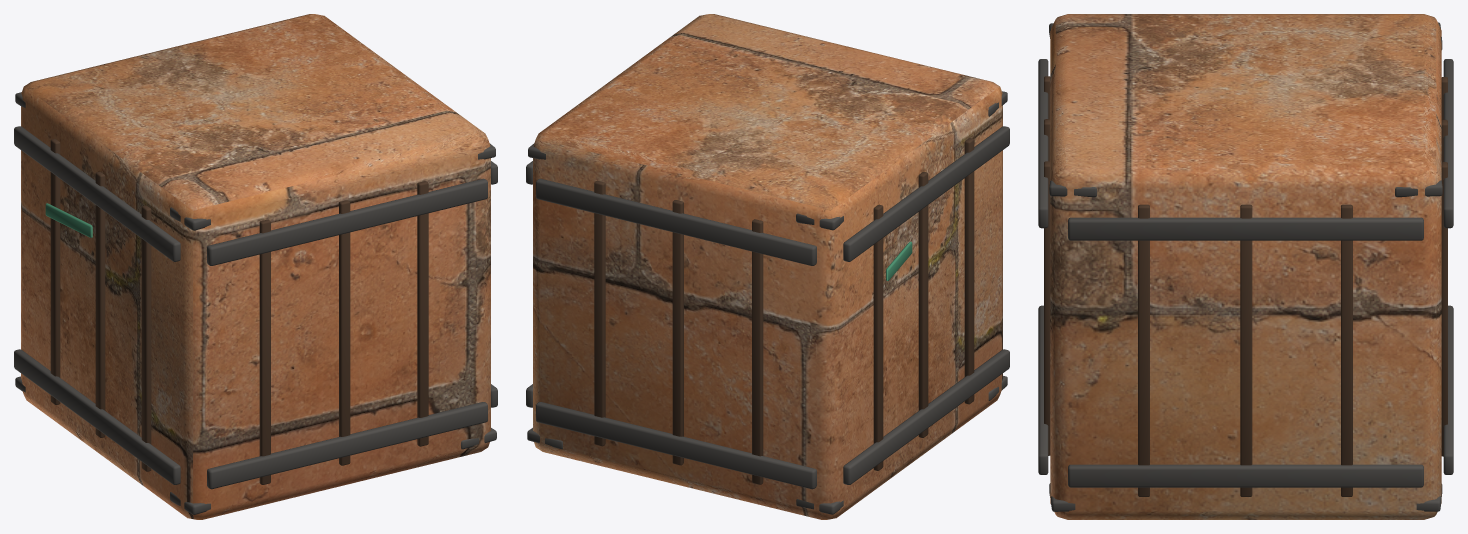
The model's file is w1_block_c.glb.
3 renders of one model, left to right at view 1: azimuth 30°, elevation 25°; view 2: azimuth 150°, elevation 25°; view 3: azimuth 270°, elevation 25°, orthographic. The views are drawn at different scales.
Visible parts, largest first — view 1: w1_block_c; view 2: w1_block_c; view 3: w1_block_c.
Boxes of the visible parts, <box> form: w1_block_c: <box>14,14,497,519</box>; w1_block_c: <box>526,14,1009,519</box>; w1_block_c: <box>1038,14,1453,519</box>.
Size of the model in its own units: 1.91 by 1.78 by 1.89.
4 materials, 1 textured.
